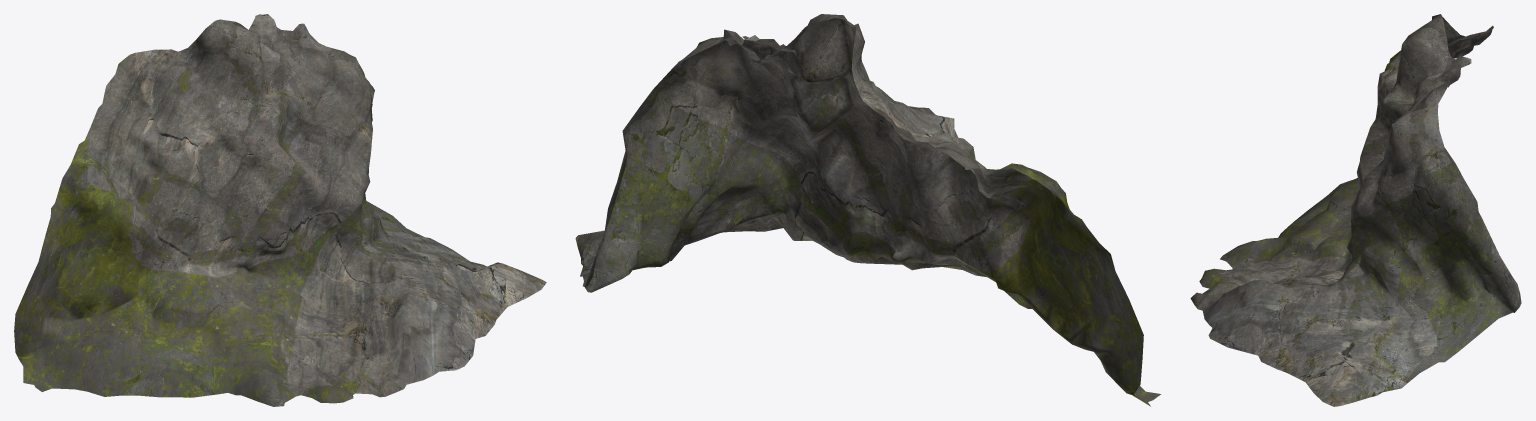
Rendered from Rock12.fbx.
3 views of the same model, side by side, from view 1: azimuth 30°, elevation 25°; view 2: azimuth 150°, elevation 25°; view 3: azimuth 270°, elevation 25° (orthographic). The views are drawn at different scales.
Parts seen in each view (by area): view 1: LV_Campanag_Rock08_SM_LSJ; view 2: LV_Campanag_Rock08_SM_LSJ; view 3: LV_Campanag_Rock08_SM_LSJ.
Boxes of the visible parts, box(x1,y1,x2,y2) form: LV_Campanag_Rock08_SM_LSJ: box(14, 14, 546, 406); LV_Campanag_Rock08_SM_LSJ: box(575, 14, 1160, 406); LV_Campanag_Rock08_SM_LSJ: box(1190, 14, 1521, 406).
Bounding box in the file's own units: 7.31 × 4.05 × 4.51.
1 material, 1 textured.
